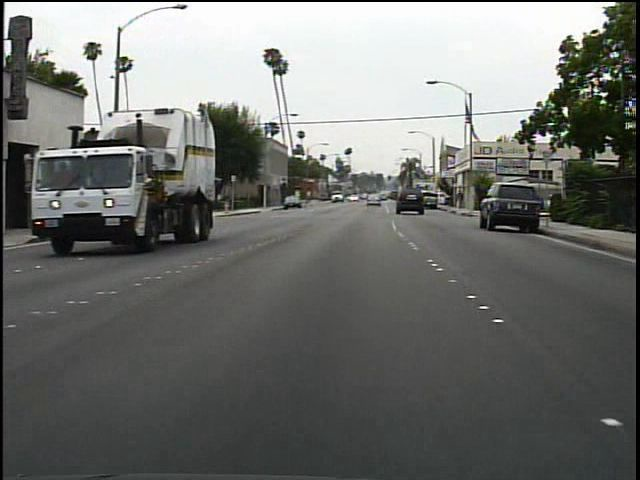person: (451, 186, 468, 214)
